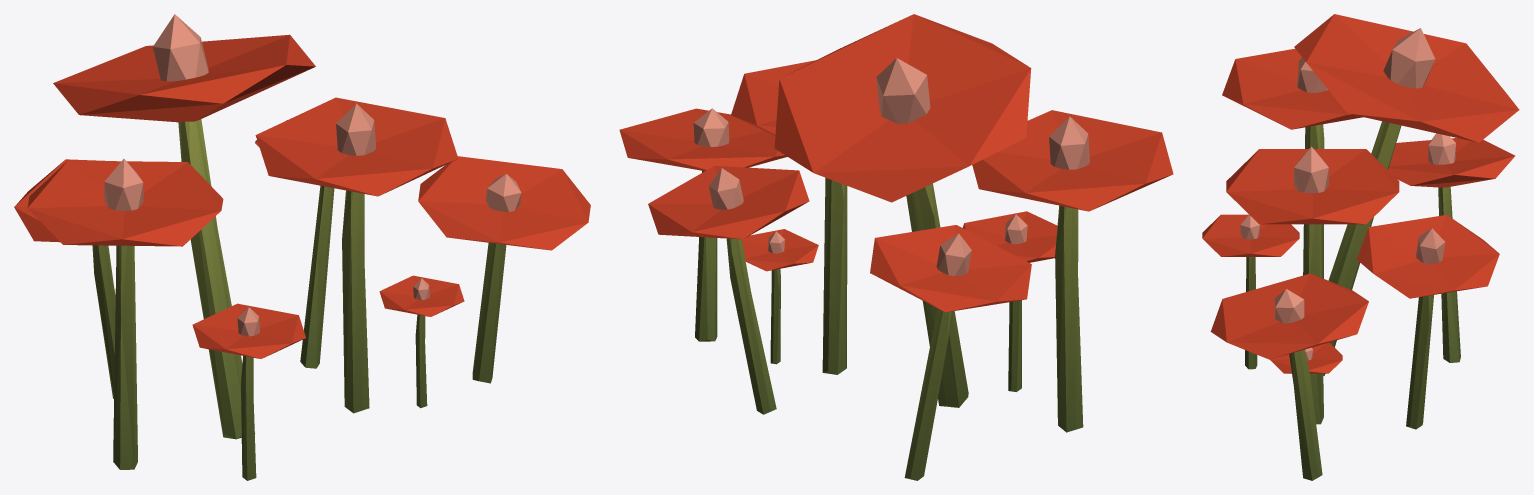
The model's file is Summer_Flower_09.glb.
The picture shows the model from 3 angles, left to right: view 1: azimuth 30°, elevation 25°; view 2: azimuth 150°, elevation 25°; view 3: azimuth 270°, elevation 25°; orthographic projection. The views are drawn at different scales.
Parts seen in each view (by area): view 1: Summer_Flower_09_LOD0; view 2: Summer_Flower_09_LOD0; view 3: Summer_Flower_09_LOD0.
Boxes of the visible parts, left/top/right/bottom form: Summer_Flower_09_LOD0: left=14, top=14, right=590, bottom=480; Summer_Flower_09_LOD0: left=619, top=14, right=1173, bottom=480; Summer_Flower_09_LOD0: left=1202, top=14, right=1519, bottom=480.
Size of what is drawn, in the model's own units: 0.3854 by 0.2729 by 0.225.
Materials: 1 (1 with a texture image).
